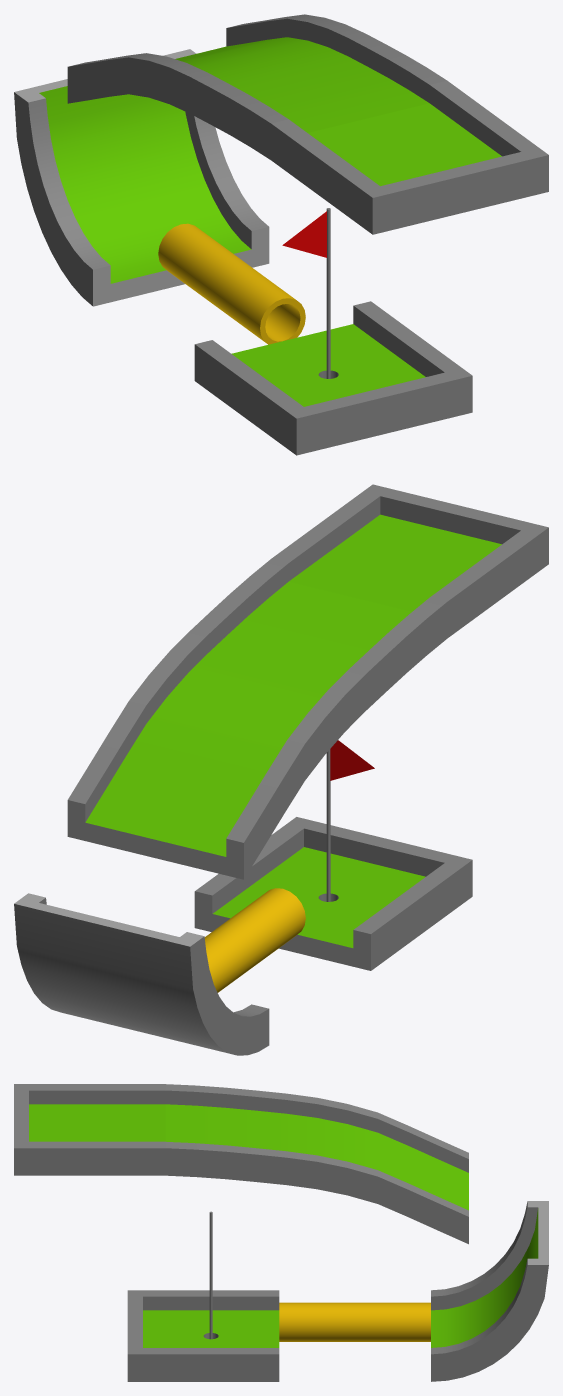
File: course8.fbx
3 renders of one model, top to bottom at view 1: azimuth 30°, elevation 25°; view 2: azimuth 150°, elevation 25°; view 3: azimuth 270°, elevation 25°, orthographic. The views are drawn at different scales.
Parts seen in each view (by area): view 1: middle16, middledown1, start9, polySurface3, pipestraight1, polySurface4, polySurface2; view 2: middledown1, start9, polySurface3, middle16, pipestraight1, polySurface4, polySurface2; view 3: middledown1, start9, polySurface3, middle16, pipestraight1, polySurface4.
Part boxes in pixels (x1=…): middle16: x1=14, y1=49, x2=269, y2=306; middledown1: x1=67, y1=14, x2=446, y2=159; start9: x1=271, y1=80, x2=548, y2=234; polySurface3: x1=194, y1=301, x2=472, y2=455; pipestraight1: x1=158, y1=223, x2=305, y2=344; polySurface4: x1=283, y1=208, x2=330, y2=378; polySurface2: x1=282, y1=211, x2=326, y2=257; middledown1: x1=67, y1=559, x2=447, y2=879; start9: x1=271, y1=484, x2=548, y2=638; polySurface3: x1=194, y1=817, x2=472, y2=970; middle16: x1=14, y1=893, x2=269, y2=1055; pipestraight1: x1=204, y1=888, x2=305, y2=992; polySurface4: x1=326, y1=741, x2=373, y2=901; polySurface2: x1=330, y1=740, x2=374, y2=780; middledown1: x1=165, y1=1084, x2=468, y2=1244; start9: x1=14, y1=1084, x2=165, y2=1175; polySurface3: x1=127, y1=1290, x2=279, y2=1381; middle16: x1=431, y1=1201, x2=548, y2=1381; pipestraight1: x1=279, y1=1302, x2=430, y2=1341; polySurface4: x1=209, y1=1211, x2=212, y2=1339.
Bounding box in the file's own units: 10 × 17 × 35.28.
